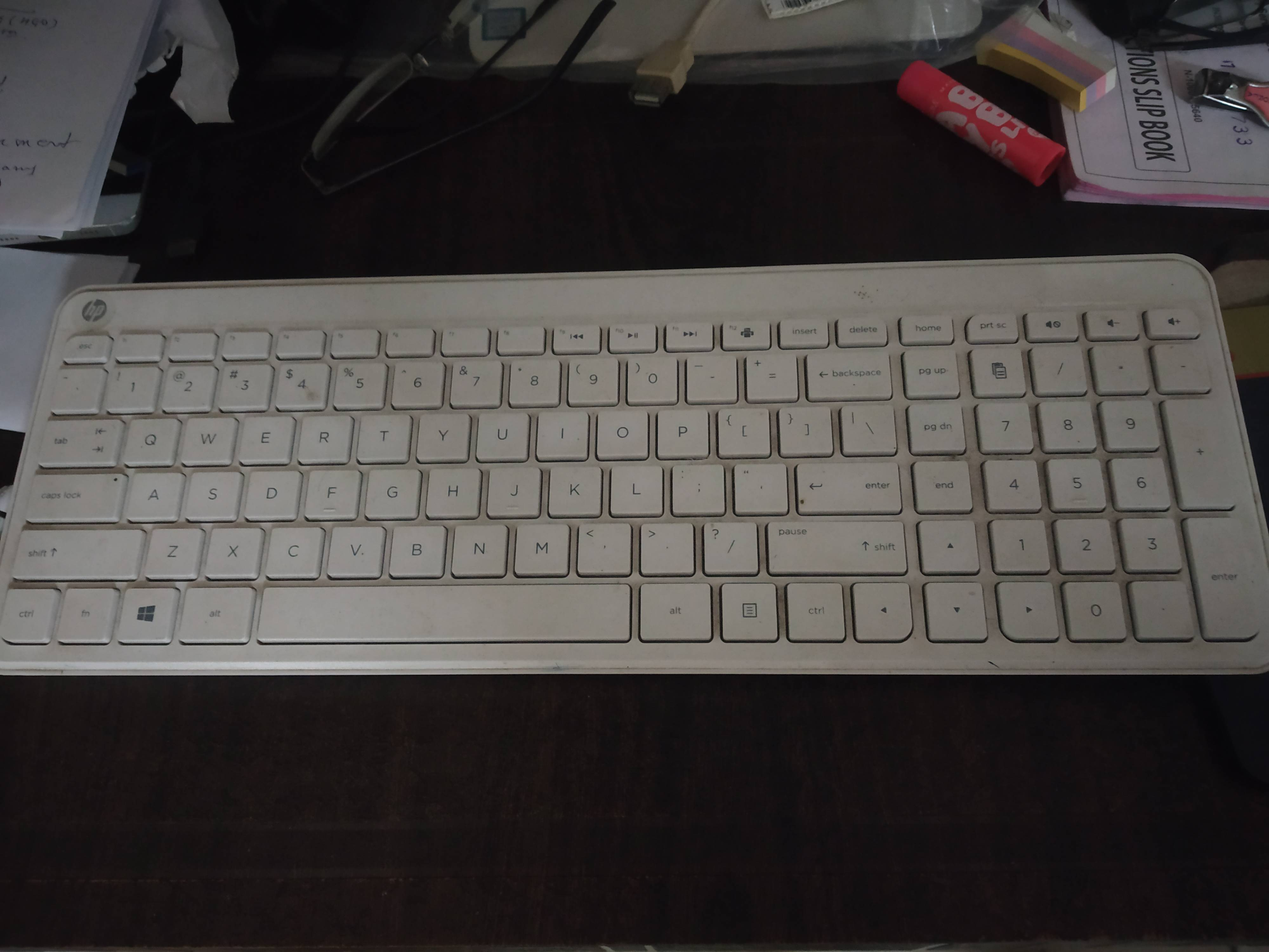Electronics: (3, 230, 1269, 723)
